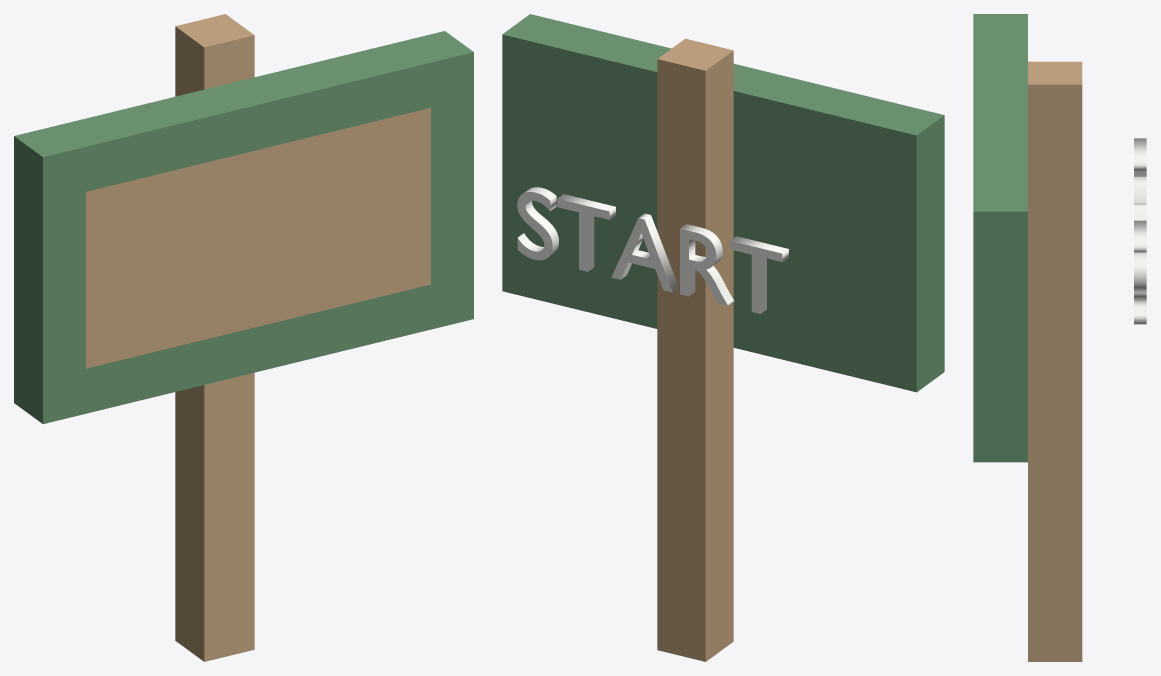
File: sign_start.glb
3 views of the same model, side by side, from view 1: azimuth 30°, elevation 25°; view 2: azimuth 150°, elevation 25°; view 3: azimuth 270°, elevation 25° (orthographic). The views are drawn at different scales.
Visible parts, largest first — view 1: sign; view 2: sign, sign_text_START; view 3: sign, sign_text_START.
Part boxes in pixels (x1,y1,x2,y2): sign: (14, 14, 473, 661); sign: (502, 14, 944, 661); sign_text_START: (517, 187, 788, 313); sign: (973, 14, 1082, 661); sign_text_START: (1134, 138, 1146, 324).
Bounding box in the file's own units: 0.9 × 1.23 × 0.3335.
